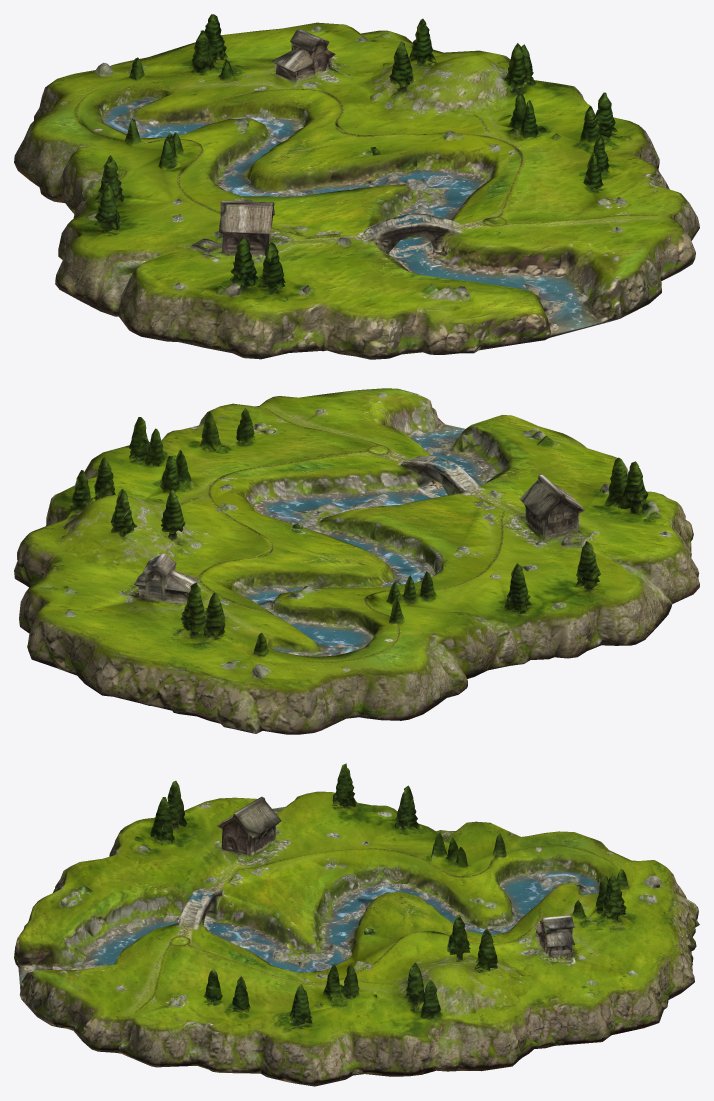
Rendered from city_ordu_persembe_plateau.glb.
3 views of the same model, one above another, from view 1: azimuth 30°, elevation 25°; view 2: azimuth 150°, elevation 25°; view 3: azimuth 270°, elevation 25° (orthographic). The views are drawn at different scales.
Parts seen in each view (by area): view 1: Mesh1.0; view 2: Mesh1.0; view 3: Mesh1.0.
Part boxes in pixels (x1,y1,x2,y2): Mesh1.0: (14,14,699,359); Mesh1.0: (14,388,699,734); Mesh1.0: (14,763,699,1086).
Bounding box in the file's own units: 129 × 22 × 142.
1 material, 1 textured.
